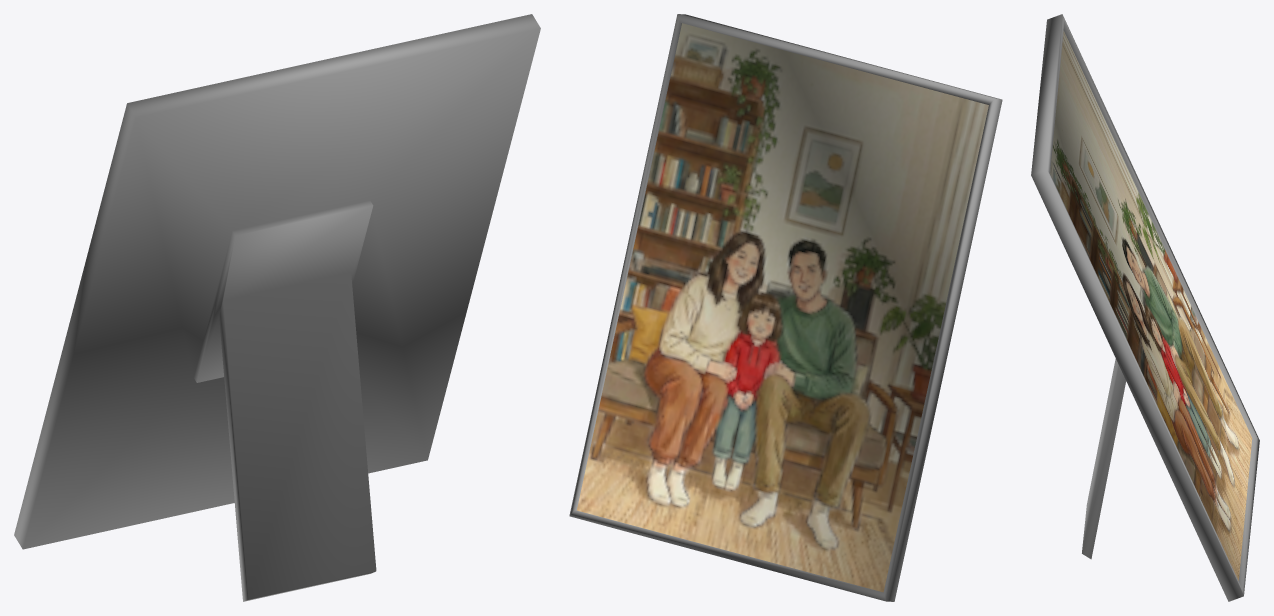
Rendered from poto_01.fbx.
3 views of the same model, side by side, from view 1: azimuth 30°, elevation 25°; view 2: azimuth 150°, elevation 25°; view 3: azimuth 270°, elevation 25° (orthographic). The views are drawn at different scales.
Parts seen in each view (by area): view 1: Cube.118; view 2: Cube.118; view 3: Cube.118.
Part boxes in pixels (left/top/right/bottom): Cube.118: left=14, top=14, right=540, bottom=601; Cube.118: left=569, top=14, right=1002, bottom=601; Cube.118: left=1031, top=14, right=1259, bottom=601.
Bounding box in the file's own units: 29.33 × 37.89 × 17.77.
1 material, 1 textured.
